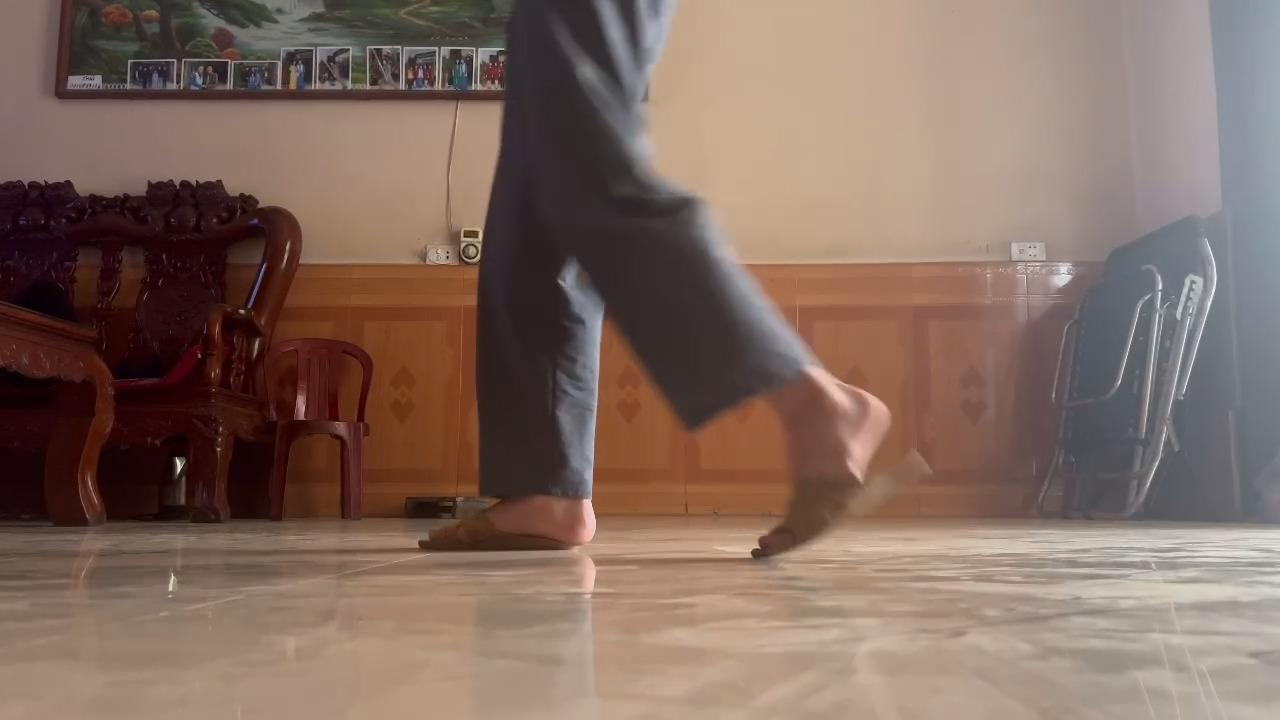no-boot: (740, 382, 945, 562), (404, 487, 615, 559)
